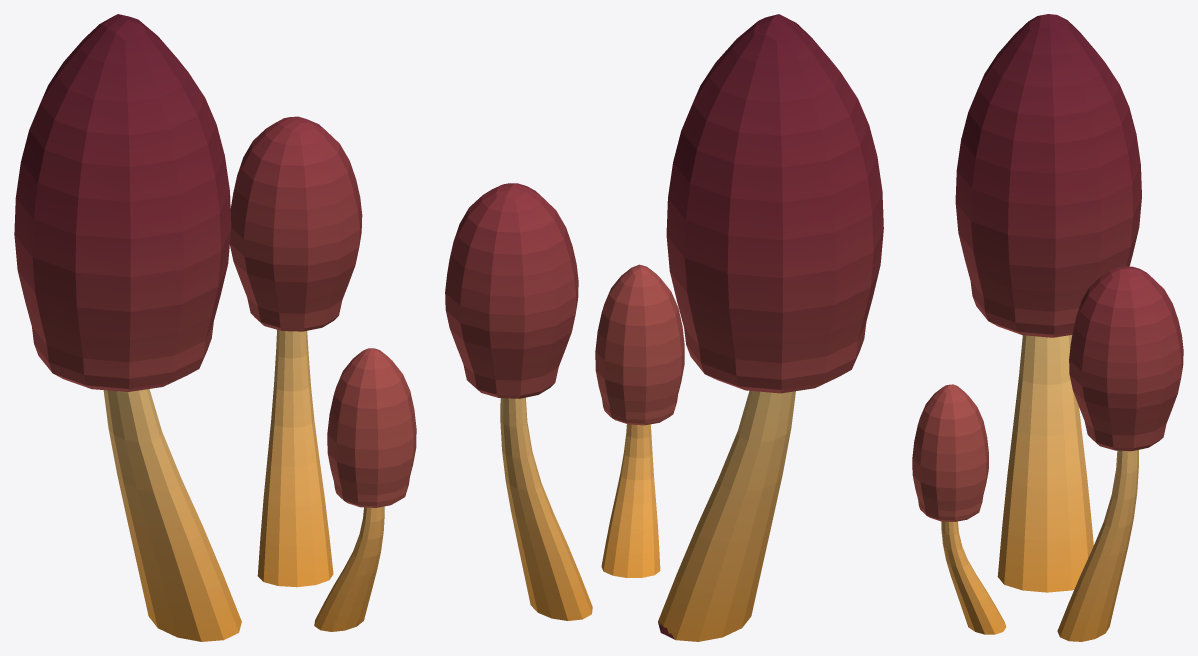
File: brown mushroom.fbx
3 views of the same model, side by side, from view 1: azimuth 30°, elevation 25°; view 2: azimuth 150°, elevation 25°; view 3: azimuth 270°, elevation 25° (orthographic). The views are drawn at different scales.
Parts seen in each view (by area): view 1: brown mushroom.002; view 2: brown mushroom.002; view 3: brown mushroom.002.
Boxes of the visible parts, box(x1,y1,x2,y2) form: brown mushroom.002: box(14, 14, 416, 641); brown mushroom.002: box(445, 14, 883, 641); brown mushroom.002: box(912, 14, 1183, 641).
Bounding box in the file's own units: 70.06 × 113 × 51.75.
Materials: 1 (1 with a texture image).
